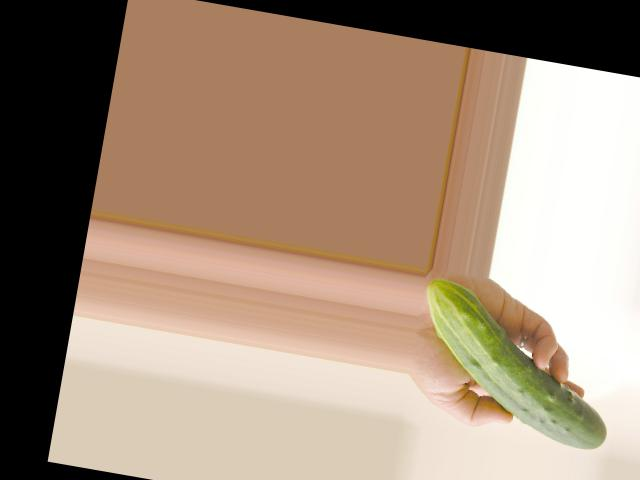cucumber: (406, 276, 628, 451)
